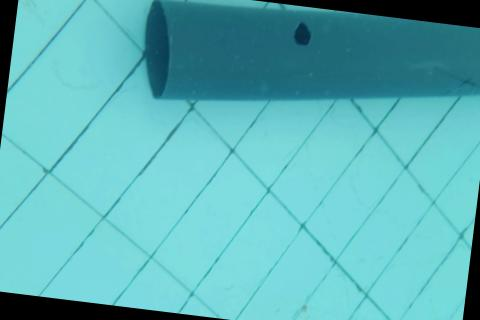kebocoran: (291, 20, 314, 47)
keretakan: (429, 65, 479, 93)
